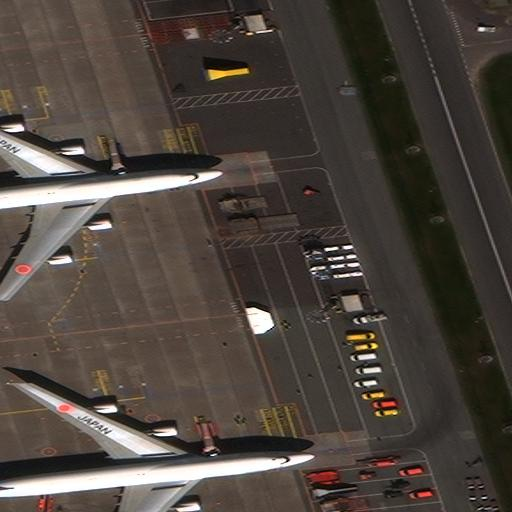Large Civil Transport: (0, 115, 223, 301), (0, 381, 314, 512)
